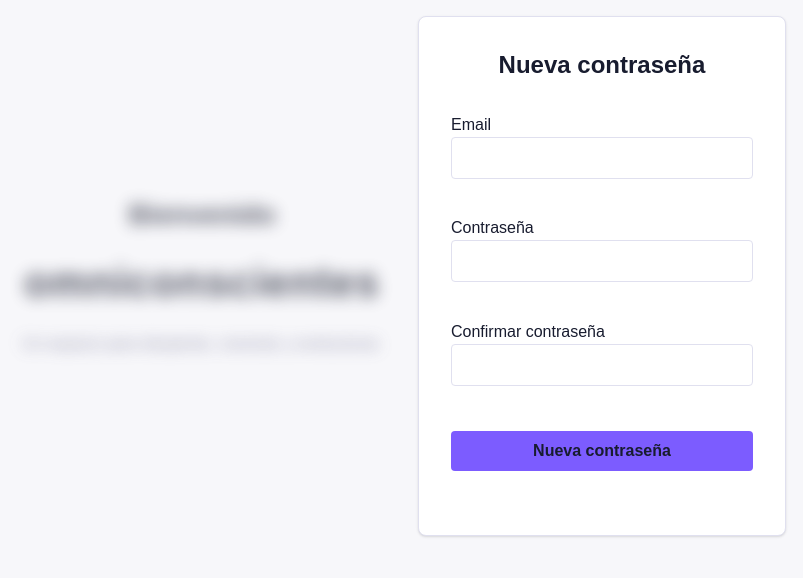
Test case: AuthForm › Reset Password Form › should update password successfully
The image size is (803, 578).
Type "test@example.com" into the field with test id "email-input" at (602, 158), box [451, 137, 753, 179]
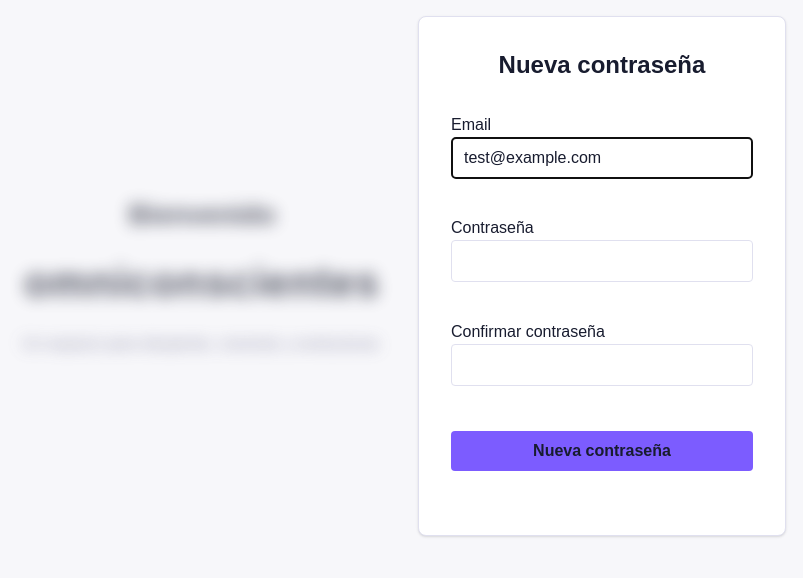
Type "newpassword123" into the password field with test id "password-input" at (602, 261), box [451, 240, 753, 282]
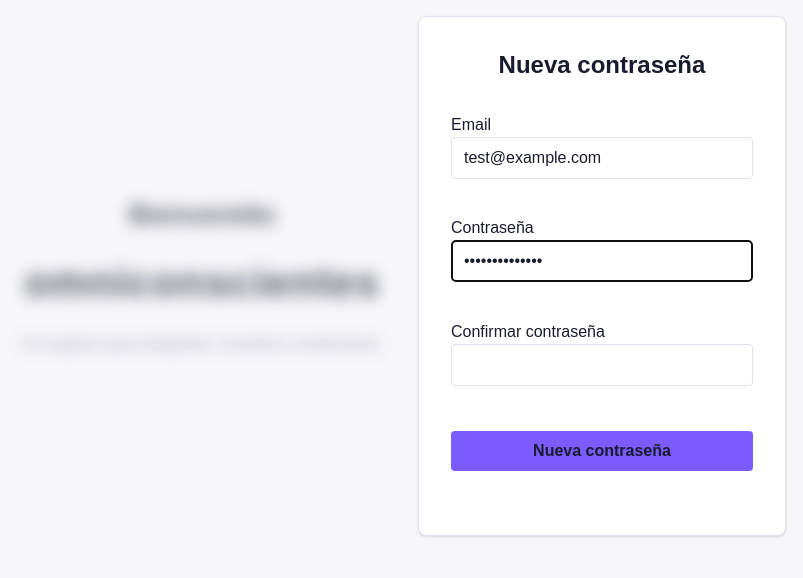
Type "newpassword123" into the password field with test id "confirm-password-input" at (602, 365), box [451, 344, 753, 386]
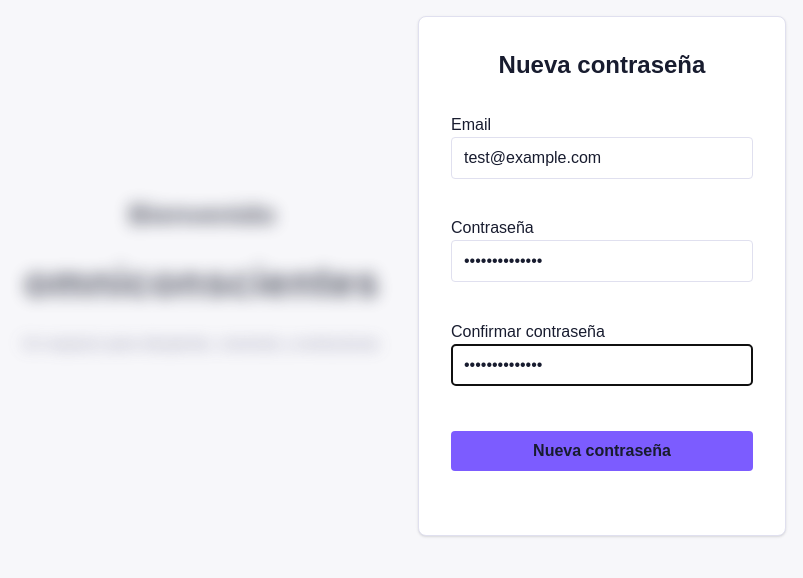
Click the button with test id "submit-button" at (602, 451), box [451, 431, 753, 471]
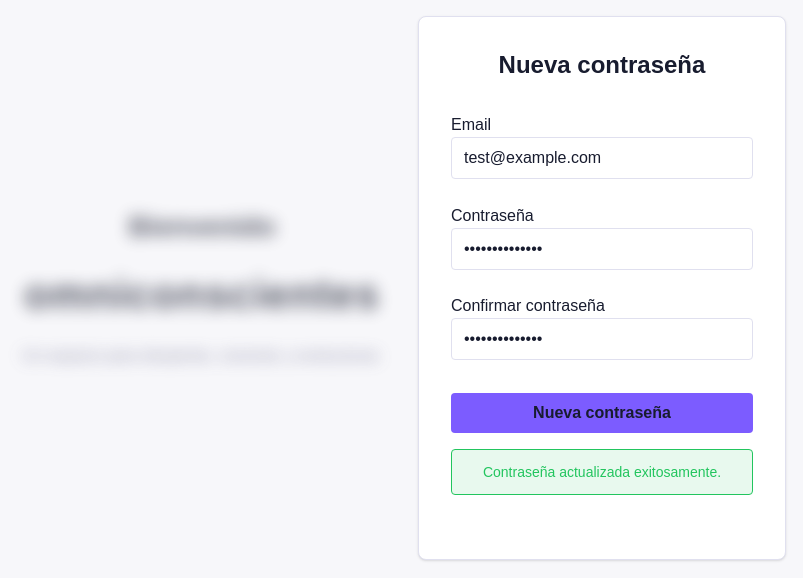
Check: the text with test id "form-message" shows "Contraseña actualizada", box [483, 464, 721, 480]
